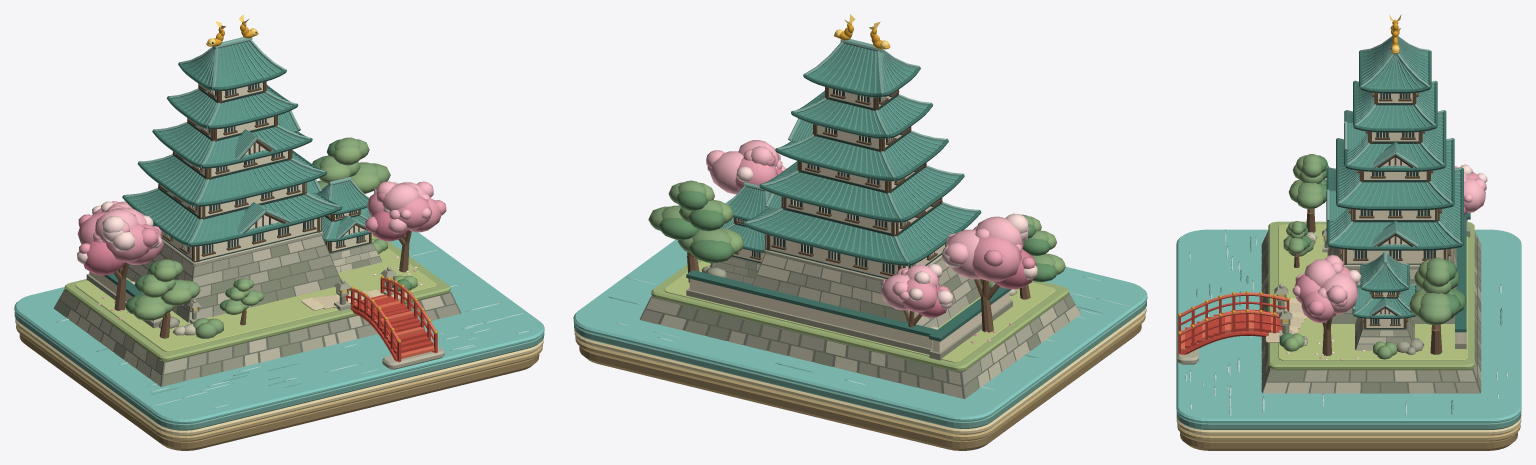
The model's file is castle.glb.
The picture shows the model from 3 angles, left to right: view 1: azimuth 30°, elevation 25°; view 2: azimuth 150°, elevation 25°; view 3: azimuth 270°, elevation 25°; orthographic projection. The views are drawn at different scales.
Parts seen in each view (by area): view 1: water, roof, tile, grass2, stone1, stone2, soil, edge, waterwall, stone4, grout, stone3 (+20 smaller); view 2: water, roof, tile, stone1, edge, wall, soil, blush, stone2, waterwall, grass, grout (+17 smaller); view 3: water, roof, tile, edge, grass2, stone1, grass, pine2, ridge, soil, red, blush (+20 smaller).
Boxes of the visible parts, <box> form: water: <box>14,231,544,423</box>; roof: <box>127,41,370,242</box>; tile: <box>129,41,370,242</box>; grass2: <box>75,236,436,351</box>; stone1: <box>59,242,460,380</box>; stone2: <box>76,231,444,378</box>; soil: <box>19,334,539,450</box>; edge: <box>104,62,371,296</box>; waterwall: <box>14,312,544,430</box>; stone4: <box>54,236,455,386</box>; grout: <box>54,236,461,386</box>; stone3: <box>67,241,461,386</box>; water: <box>573,199,1147,421</box>; roof: <box>721,43,975,261</box>; tile: <box>720,43,973,261</box>; stone1: <box>640,257,1067,393</box>; edge: <box>686,66,1011,341</box>; wall: <box>689,88,1009,352</box>; soil: <box>579,324,1141,450</box>; blush: <box>706,140,1022,341</box>; stone2: <box>646,249,1069,398</box>; waterwall: <box>574,296,1146,428</box>; grass: <box>651,259,1068,371</box>; grout: <box>640,254,1080,398</box>; water: <box>1176,229,1521,423</box>; roof: <box>1330,40,1460,315</box>; tile: <box>1330,39,1460,315</box>; edge: <box>1326,50,1470,332</box>; grass2: <box>1278,224,1467,360</box>; stone1: <box>1261,226,1481,393</box>; grass: <box>1268,221,1474,370</box>; pine2: <box>1283,154,1453,359</box>; ridge: <box>1326,36,1462,318</box>; soil: <box>1180,432,1517,450</box>; red: <box>1178,295,1289,354</box>; blush: <box>1292,166,1486,360</box>.
Size of the model in its own units: 10.61 by 8.47 by 8.12.
